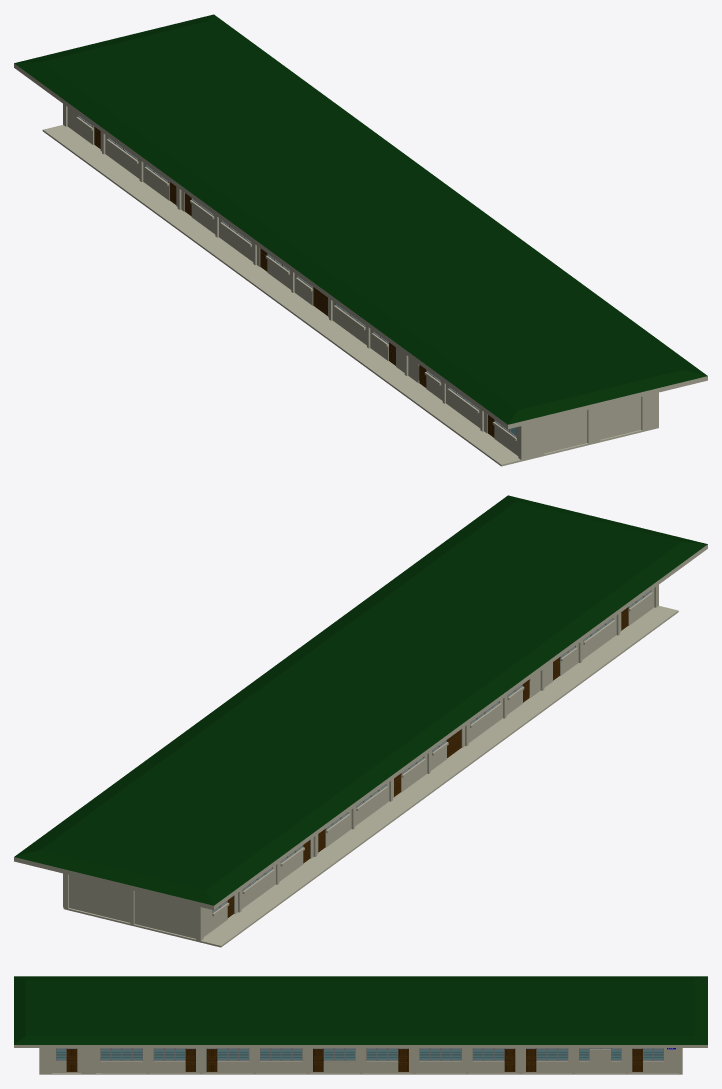
3 views of the same model, one above another, from view 1: azimuth 30°, elevation 25°; view 2: azimuth 150°, elevation 25°; view 3: azimuth 270°, elevation 25° (orthographic). The views are drawn at different scales.
Visible parts, largest first — view 1: root.001, floor, r, wall, Cube.025; view 2: root.001, floor, wall, r, Cube.025; view 3: root.001, wall, Cube.025, r, floor, Cube.004, Cube.036, Cube.097, Cube.056, Cube.068, door, Cube.029 (+1 smaller).
Part boxes in pixels (bbox=[...]): root.001: bbox=[14, 14, 707, 429]; floor: bbox=[42, 125, 658, 466]; r: bbox=[63, 104, 658, 459]; wall: bbox=[67, 107, 516, 454]; Cube.025: bbox=[100, 131, 518, 455]; root.001: bbox=[14, 495, 707, 910]; floor: bbox=[63, 606, 678, 947]; wall: bbox=[69, 592, 653, 938]; r: bbox=[63, 585, 658, 940]; Cube.025: bbox=[234, 588, 654, 913]; root.001: bbox=[14, 976, 707, 1047]; wall: bbox=[56, 1048, 678, 1072]; Cube.025: bbox=[52, 1048, 632, 1072]; r: bbox=[39, 1048, 682, 1073]; floor: bbox=[39, 1072, 682, 1074]; Cube.004: bbox=[66, 1049, 77, 1072]; Cube.036: bbox=[504, 1049, 515, 1072]; Cube.097: bbox=[206, 1049, 217, 1072]; Cube.056: bbox=[398, 1049, 408, 1072]; Cube.068: bbox=[313, 1049, 323, 1072]; door: bbox=[632, 1049, 642, 1072]; Cube.029: bbox=[526, 1049, 536, 1072].
Size of the model in its own units: 12.2 by 3.6 by 52.2.
